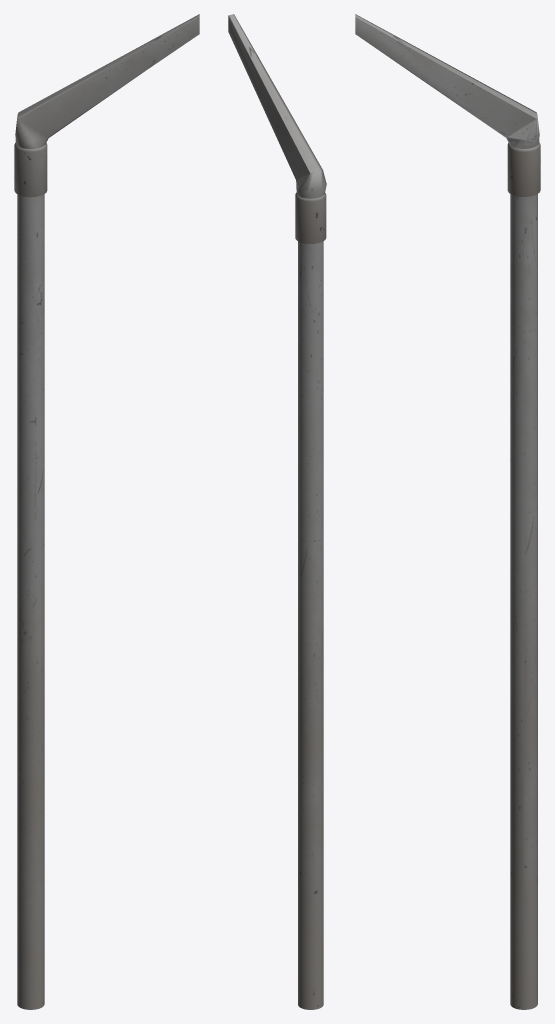
Rendered from chain_singlepost_barbwire.fbx.
The picture shows the model from 3 angles, left to right: view 1: azimuth 90°, elevation 25°; view 2: azimuth 210°, elevation 25°; view 3: azimuth 270°, elevation 25°; orthographic projection. The views are drawn at different scales.
Parts seen in each view (by area): view 1: chain_singlepost_barbwire; view 2: chain_singlepost_barbwire; view 3: chain_singlepost_barbwire.
Part boxes in pixels (left/top/right/bottom): chain_singlepost_barbwire: left=14, top=14, right=199, bottom=1009; chain_singlepost_barbwire: left=228, top=14, right=326, bottom=1009; chain_singlepost_barbwire: left=355, top=14, right=540, bottom=1009.
Bounding box in the file's own units: 0.0776 × 2.56 × 0.4341.
Materials: 1 (1 with a texture image).
